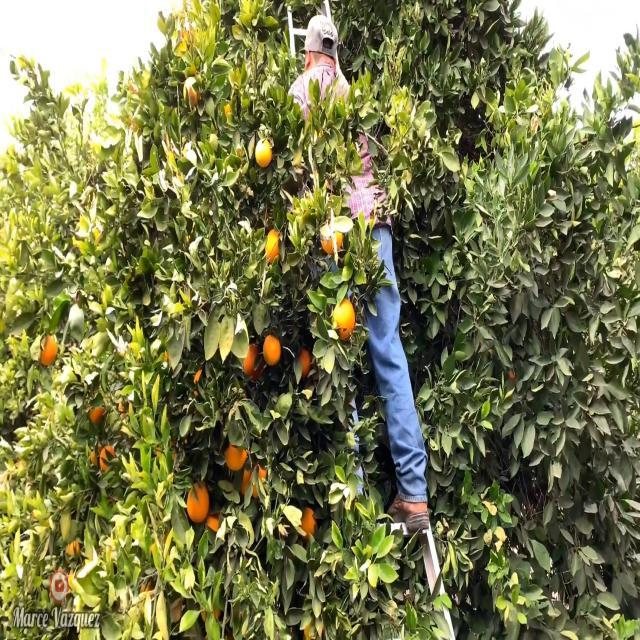Jeruk Sudah Matang: (329, 292, 356, 343), (182, 484, 212, 524), (240, 341, 265, 380), (262, 227, 286, 266), (221, 440, 250, 472), (252, 136, 276, 170), (41, 338, 62, 370), (262, 332, 282, 365), (96, 444, 118, 472)
